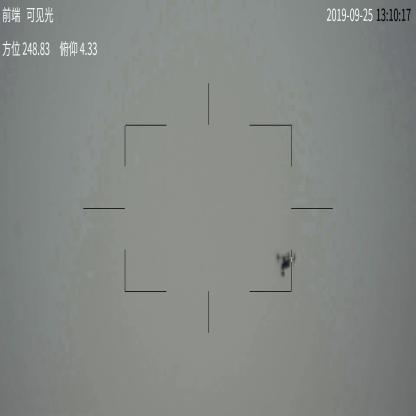uav: (273, 249, 298, 278)
